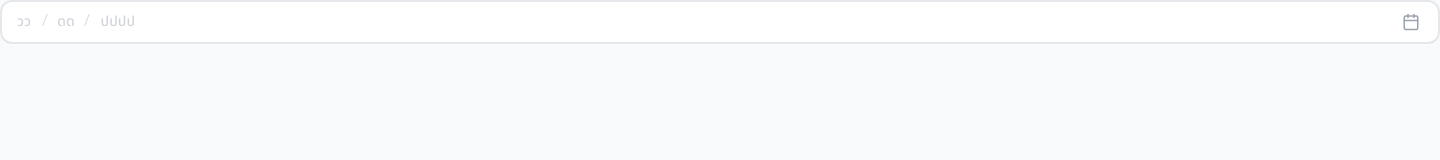
Test: CalendarPickerTH booking window › P2: rejects a typed blocked date with a Thai error
Type "20" into the field named "วันที่" at [24, 22], box [6, 6, 42, 38]
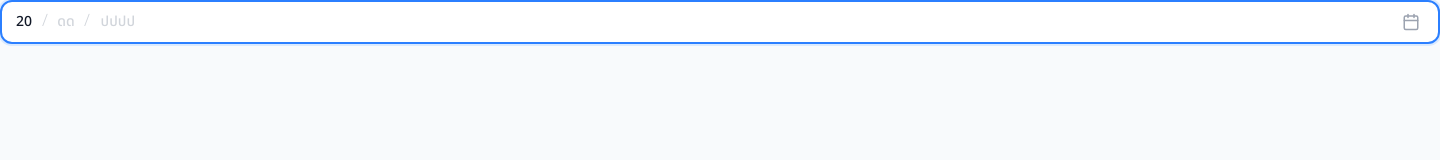
Type "10" into the field named "เดือน" at [66, 22], box [48, 6, 84, 38]
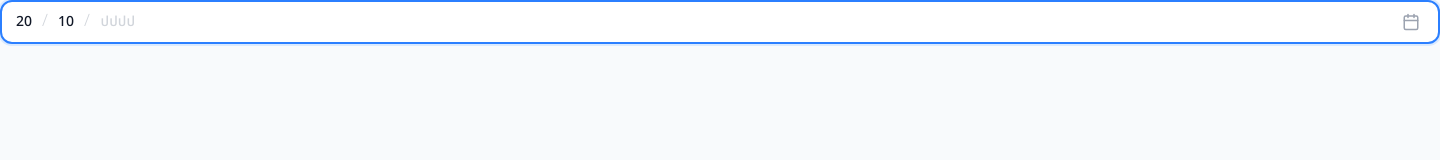
Type "2569" into the field named "ปี พ.ศ." at [118, 22], box [90, 6, 146, 38]
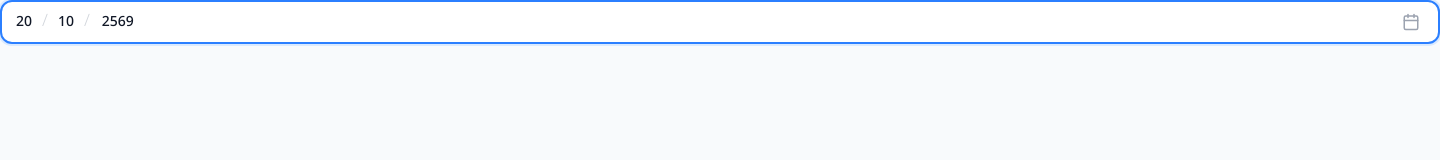
Leave the field named "ปี พ.ศ.", box [90, 6, 146, 38]
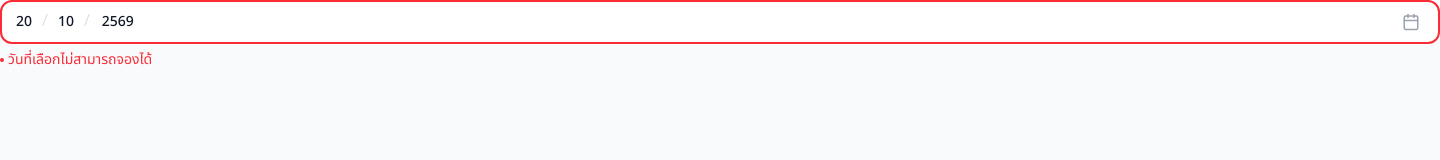
Result: the text "วันที่เลือกไม่สามารถจองได้" is shown at [0, 49, 152, 70]
